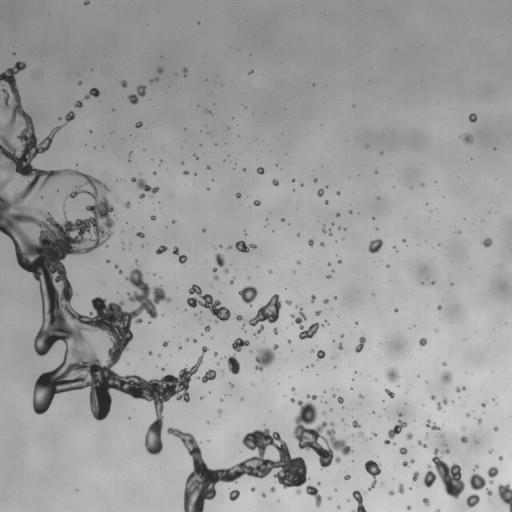droplet: (167, 427, 308, 511), (423, 449, 465, 499), (290, 308, 321, 339), (255, 344, 278, 371), (131, 177, 158, 198), (469, 465, 485, 490), (239, 286, 257, 304), (352, 490, 366, 511), (227, 354, 239, 374), (232, 338, 249, 351), (199, 369, 216, 382), (368, 239, 383, 253), (386, 368, 399, 381), (466, 494, 479, 507), (85, 88, 99, 99), (440, 371, 451, 383), (487, 466, 498, 478), (215, 253, 224, 267), (462, 133, 472, 144), (229, 490, 239, 500), (65, 111, 74, 122), (156, 245, 167, 254), (482, 238, 492, 247), (316, 350, 325, 360), (412, 471, 419, 481), (419, 338, 427, 346), (422, 498, 430, 506), (469, 113, 476, 122), (398, 483, 404, 493), (74, 100, 82, 107), (317, 188, 324, 196), (352, 420, 360, 427), (399, 447, 407, 454), (257, 167, 264, 174), (460, 436, 467, 443), (406, 432, 412, 440), (486, 488, 492, 496), (272, 179, 278, 186), (337, 396, 343, 403), (136, 232, 144, 237), (308, 238, 313, 246), (124, 202, 130, 208), (337, 343, 343, 349), (182, 68, 187, 75), (121, 80, 126, 87), (135, 122, 142, 127), (253, 200, 260, 205), (236, 315, 243, 320), (442, 448, 449, 453), (157, 67, 162, 73), (315, 310, 321, 315), (205, 325, 210, 331), (270, 486, 275, 492), (311, 295, 315, 302), (163, 341, 168, 346), (476, 418, 481, 423), (389, 490, 394, 495), (344, 475, 350, 479), (183, 170, 188, 174), (236, 193, 240, 198), (151, 215, 155, 220), (214, 275, 218, 280), (323, 299, 328, 303), (286, 300, 291, 304), (273, 328, 277, 333), (290, 398, 295, 402), (403, 461, 407, 466), (251, 486, 255, 491), (84, 0, 88, 4), (313, 178, 317, 182), (320, 242, 324, 246), (114, 264, 118, 268), (224, 269, 228, 273), (327, 274, 331, 278), (437, 305, 441, 309), (148, 351, 152, 355), (229, 383, 233, 387), (291, 387, 295, 391), (431, 395, 435, 399), (218, 409, 222, 413), (372, 432, 376, 436), (498, 456, 502, 460), (410, 459, 414, 463), (249, 70, 252, 74), (206, 110, 210, 113), (128, 152, 131, 156), (194, 154, 197, 158), (338, 259, 341, 263), (213, 268, 217, 271), (431, 281, 435, 284), (482, 402, 485, 406), (494, 427, 497, 431), (489, 449, 492, 453), (489, 480, 493, 483), (262, 493, 265, 497), (0, 163, 2, 168), (207, 166, 210, 169), (337, 191, 340, 194), (325, 200, 328, 203), (336, 213, 339, 216), (297, 261, 300, 264), (119, 270, 122, 273), (193, 339, 196, 342), (288, 339, 291, 342), (359, 394, 362, 397), (407, 506, 410, 509), (243, 168, 245, 171), (153, 172, 156, 174), (292, 179, 294, 182), (421, 183, 423, 186), (282, 218, 284, 221), (172, 220, 174, 223), (202, 229, 205, 231), (228, 246, 231, 248), (394, 309, 397, 311), (179, 346, 181, 349), (214, 353, 217, 355), (443, 362, 445, 365), (399, 413, 401, 416), (466, 414, 469, 416), (440, 434, 443, 436), (317, 482, 320, 484), (328, 497, 331, 499), (337, 506, 340, 508), (78, 82, 80, 84), (349, 211, 351, 213), (332, 223, 334, 225), (338, 227, 340, 229), (403, 239, 405, 241), (135, 261, 137, 263), (269, 271, 271, 273), (334, 296, 336, 298), (296, 305, 298, 307), (186, 339, 188, 341), (162, 368, 164, 370), (241, 398, 243, 400)
ligament: (0, 61, 208, 454), (293, 400, 352, 468), (187, 284, 230, 322), (242, 294, 281, 328), (384, 420, 407, 444), (365, 460, 380, 490), (498, 484, 511, 511), (306, 485, 321, 507), (128, 85, 145, 104), (235, 241, 256, 252), (173, 246, 186, 263), (355, 336, 365, 352), (426, 420, 440, 430), (437, 398, 447, 410), (254, 325, 263, 335), (322, 226, 331, 235), (385, 389, 394, 398), (358, 432, 366, 440), (417, 440, 426, 447), (455, 387, 465, 392), (307, 395, 316, 399), (230, 277, 235, 284), (150, 78, 158, 82), (0, 182, 5, 188), (435, 509, 440, 511)
